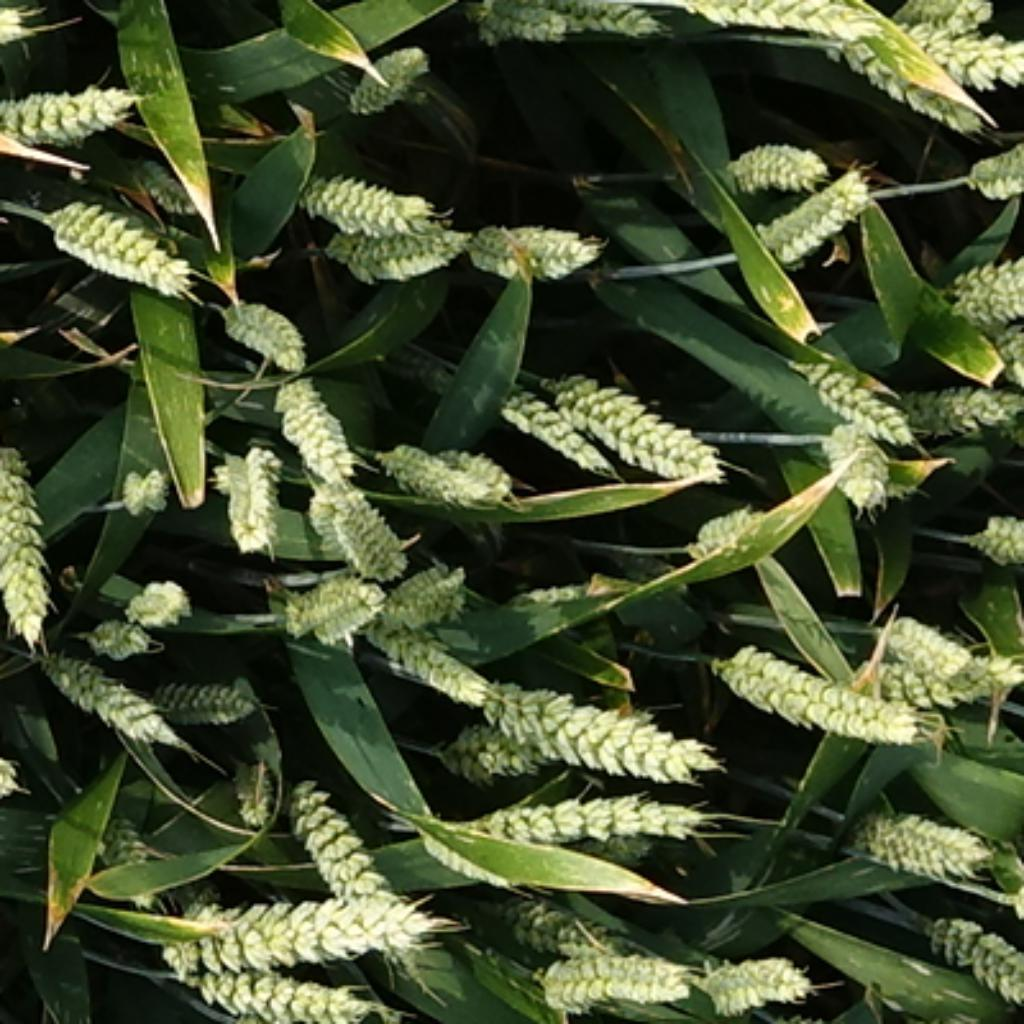0-0: (432, 665, 711, 780), (281, 770, 432, 967), (766, 20, 989, 148), (519, 353, 727, 486), (145, 880, 430, 975), (706, 627, 921, 744), (435, 778, 719, 849), (35, 176, 194, 289), (488, 381, 629, 501), (30, 634, 166, 739), (532, 926, 693, 1008), (188, 964, 398, 1024), (460, 878, 609, 962), (755, 163, 878, 261), (358, 611, 496, 698), (791, 337, 911, 437), (857, 808, 1008, 887), (844, 640, 1024, 706), (0, 432, 58, 634), (463, 217, 614, 294), (373, 427, 517, 506), (304, 465, 409, 568), (317, 207, 468, 276), (289, 161, 435, 232), (422, 721, 576, 788), (924, 908, 1024, 1011), (867, 601, 985, 686), (0, 71, 138, 143), (686, 0, 890, 46), (911, 28, 1024, 111), (273, 366, 358, 471), (87, 801, 168, 911), (693, 939, 816, 1008), (890, 368, 1013, 437), (276, 563, 384, 640), (212, 435, 286, 547), (814, 421, 901, 513), (340, 33, 432, 115), (212, 284, 309, 360), (140, 668, 258, 724), (716, 128, 829, 186), (872, 0, 998, 51), (944, 240, 1024, 320), (538, 0, 673, 47), (686, 491, 780, 558), (381, 555, 468, 619), (464, 1, 582, 47), (120, 145, 197, 212), (954, 138, 1024, 202), (225, 744, 281, 821), (117, 568, 192, 622), (970, 501, 1024, 568), (81, 604, 151, 652), (119, 468, 175, 522), (990, 320, 1024, 381)
